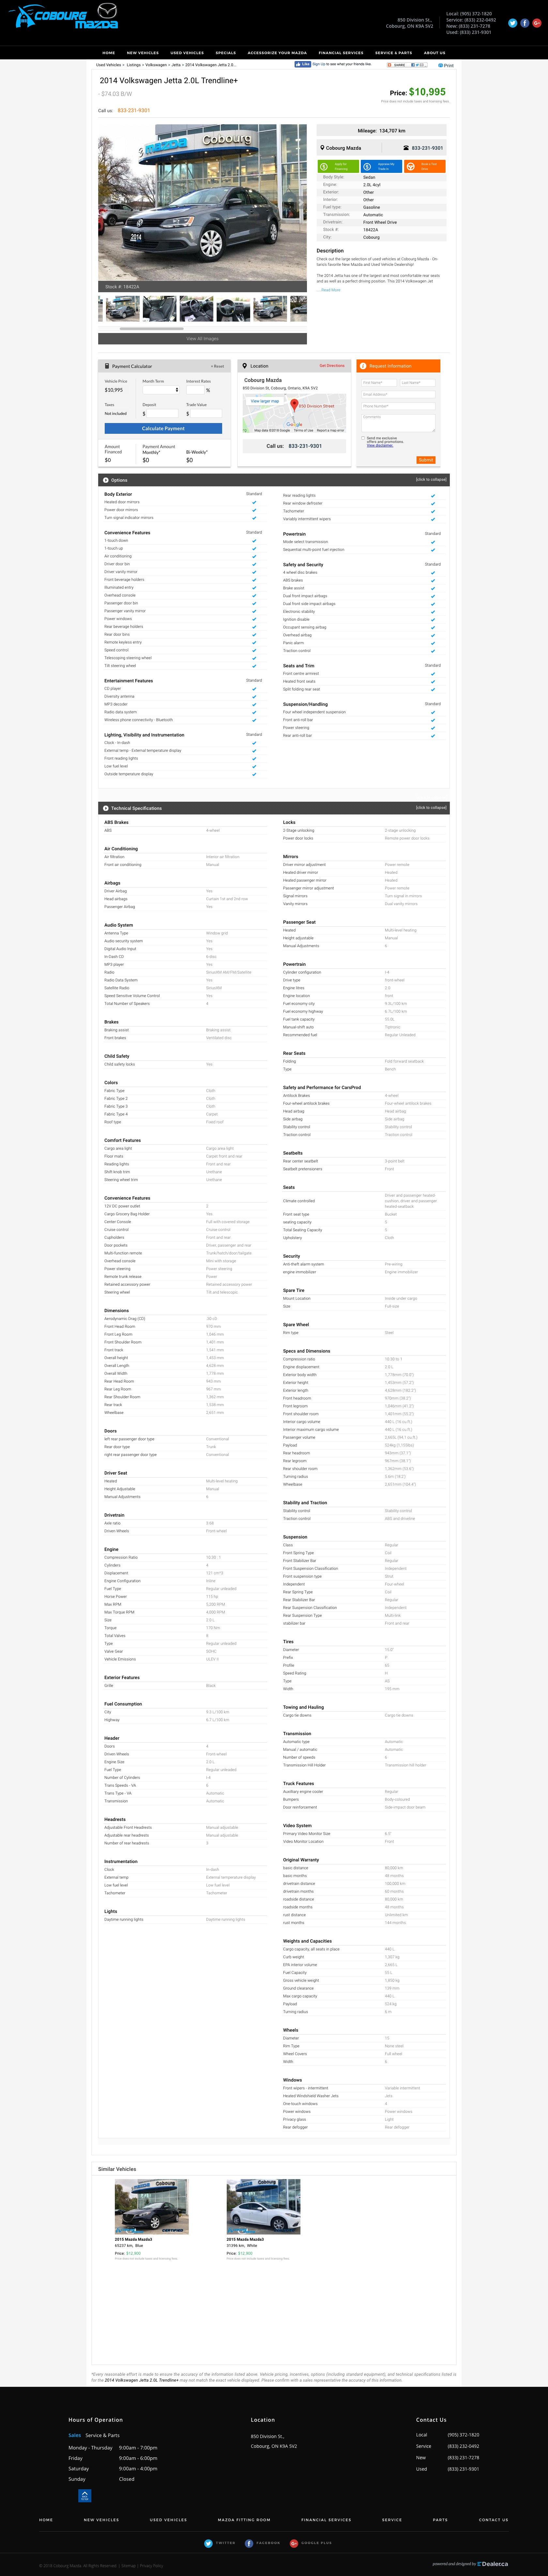car: (292, 195, 308, 210)
